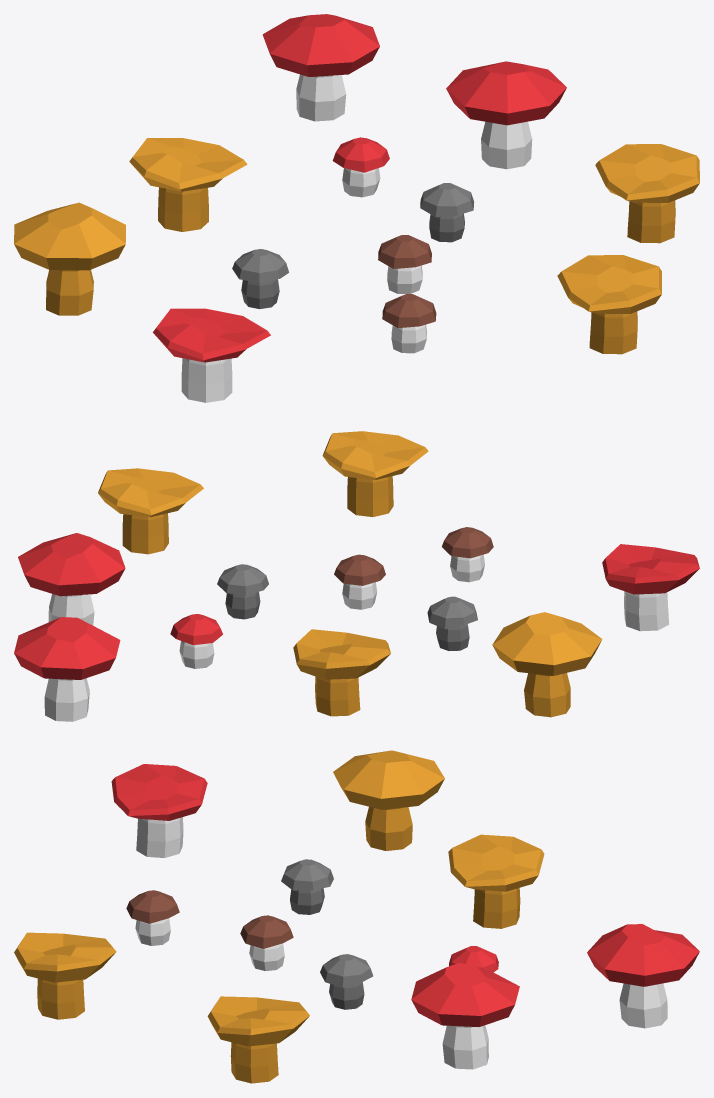
The model's file is Mushrooms.glb.
3 views of the same model, one above another, from view 1: azimuth 30°, elevation 25°; view 2: azimuth 150°, elevation 25°; view 3: azimuth 270°, elevation 25° (orthographic). The views are drawn at different scales.
Parts seen in each view (by area): view 1: Mushroom 1.001, Mushroom 1, Mushroom 1.002, Mushroom 2, Mushroom 2.002, Mushroom 2.003, Mushroom 2.001, Mushrooms 3.001, Mushrooms 3.003, Mushrooms 3.004, Mushrooms 3, Mushrooms 3.002; view 2: Mushroom 1.001, Mushroom 1.002, Mushroom 1, Mushroom 2, Mushroom 2.002, Mushroom 2.001, Mushroom 2.003, Mushrooms 3, Mushrooms 3.004, Mushrooms 3.002, Mushrooms 3.003, Mushrooms 3.001; view 3: Mushroom 1, Mushroom 1.002, Mushroom 1.001, Mushroom 2.001, Mushroom 2.003, Mushroom 2.002, Mushroom 2, Mushrooms 3.002, Mushrooms 3, Mushrooms 3.004, Mushrooms 3.001, Mushrooms 3.003.
Boxes of the visible parts, bbox=[...] form: Mushroom 1.001: bbox=[14, 202, 125, 315]; Mushroom 1: bbox=[446, 61, 566, 169]; Mushroom 1.002: bbox=[262, 14, 379, 121]; Mushroom 2: bbox=[595, 144, 699, 243]; Mushroom 2.002: bbox=[557, 255, 661, 354]; Mushroom 2.003: bbox=[153, 308, 270, 402]; Mushroom 2.001: bbox=[129, 138, 247, 231]; Mushrooms 3.001: bbox=[232, 249, 288, 309]; Mushrooms 3.003: bbox=[332, 137, 389, 197]; Mushrooms 3.004: bbox=[382, 294, 436, 353]; Mushrooms 3: bbox=[420, 183, 474, 242]; Mushrooms 3.002: bbox=[378, 235, 431, 293]; Mushroom 1.001: bbox=[492, 612, 602, 717]; Mushroom 1.002: bbox=[14, 617, 120, 721]; Mushroom 1: bbox=[18, 533, 125, 625]; Mushroom 2: bbox=[98, 468, 203, 554]; Mushroom 2.002: bbox=[322, 431, 428, 516]; Mushroom 2.001: bbox=[293, 629, 390, 716]; Mushroom 2.003: bbox=[602, 544, 699, 631]; Mushrooms 3: bbox=[217, 564, 268, 619]; Mushrooms 3.004: bbox=[442, 527, 493, 582]; Mushrooms 3.002: bbox=[334, 554, 385, 609]; Mushrooms 3.003: bbox=[170, 614, 222, 668]; Mushrooms 3.001: bbox=[427, 596, 477, 650]; Mushroom 1: bbox=[411, 963, 519, 1069]; Mushroom 1.002: bbox=[587, 924, 699, 1028]; Mushroom 1.001: bbox=[333, 750, 444, 850]; Mushroom 2.001: bbox=[448, 834, 544, 928]; Mushroom 2.003: bbox=[111, 764, 207, 857]; Mushroom 2.002: bbox=[14, 932, 116, 1019]; Mushroom 2: bbox=[207, 996, 309, 1083]; Mushrooms 3.002: bbox=[240, 915, 293, 970]; Mushrooms 3: bbox=[320, 954, 373, 1009]; Mushrooms 3.004: bbox=[126, 890, 179, 945]; Mushrooms 3.001: bbox=[281, 859, 333, 914]; Mushrooms 3.003: bbox=[449, 946, 498, 972].
Bounding box in the file's own units: 1.97 × 0.2944 × 2.06.
Materials: 5 (4 with a texture image).
